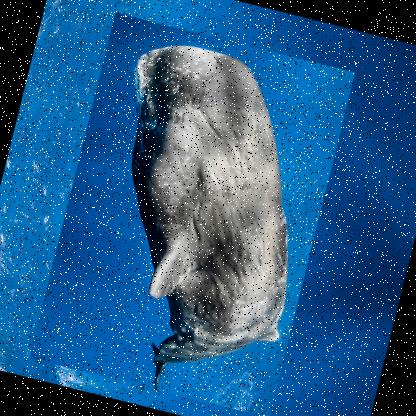sperm_whale: (28, 12, 356, 415)
